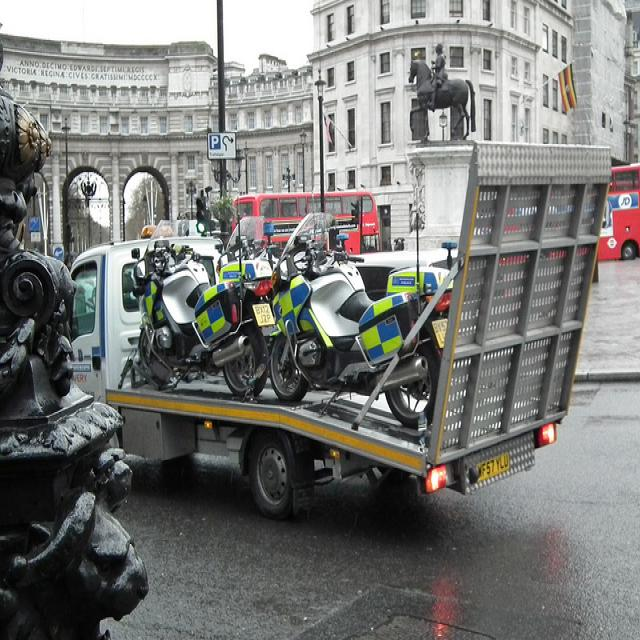motor: (269, 208, 453, 429), (132, 239, 275, 397)
